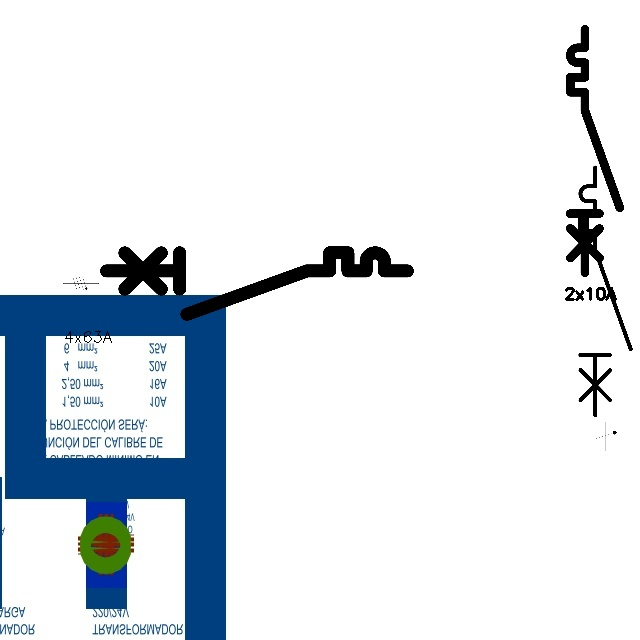interruptor_termomagnetico: (98, 245, 414, 322), (574, 161, 637, 421), (564, 23, 626, 279)
